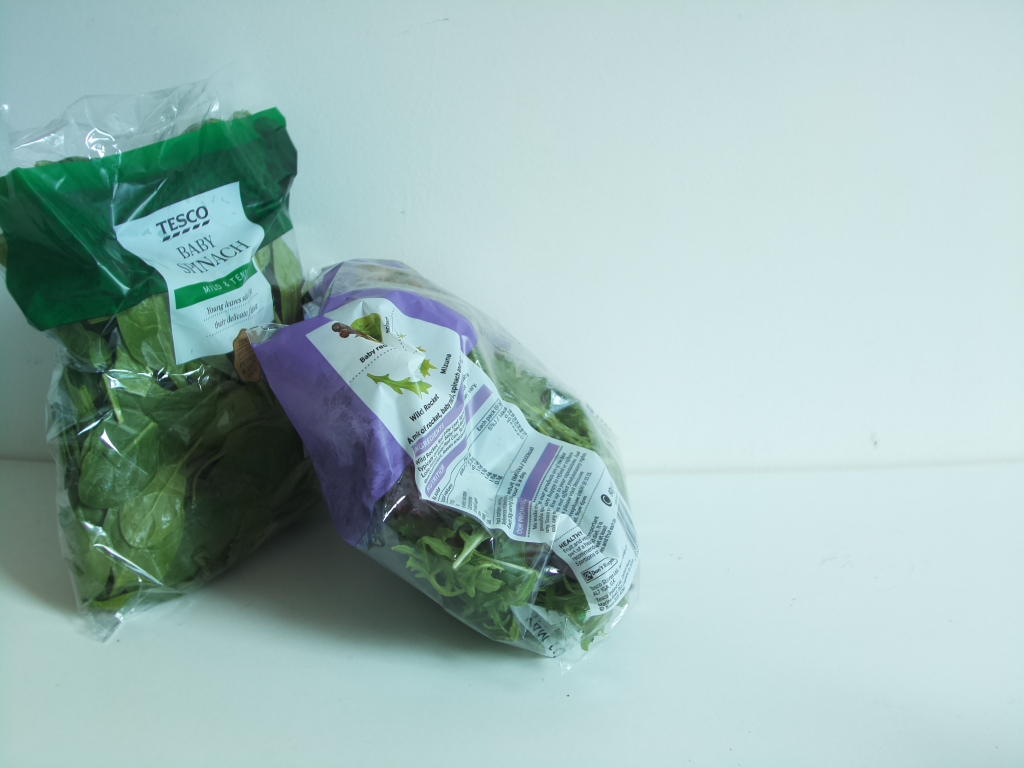salad: (8, 80, 312, 612), (259, 256, 640, 663)
